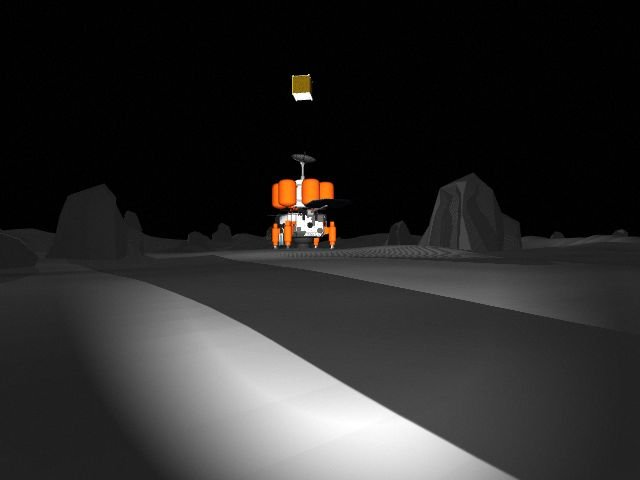cubesat: (289, 66, 321, 107)
